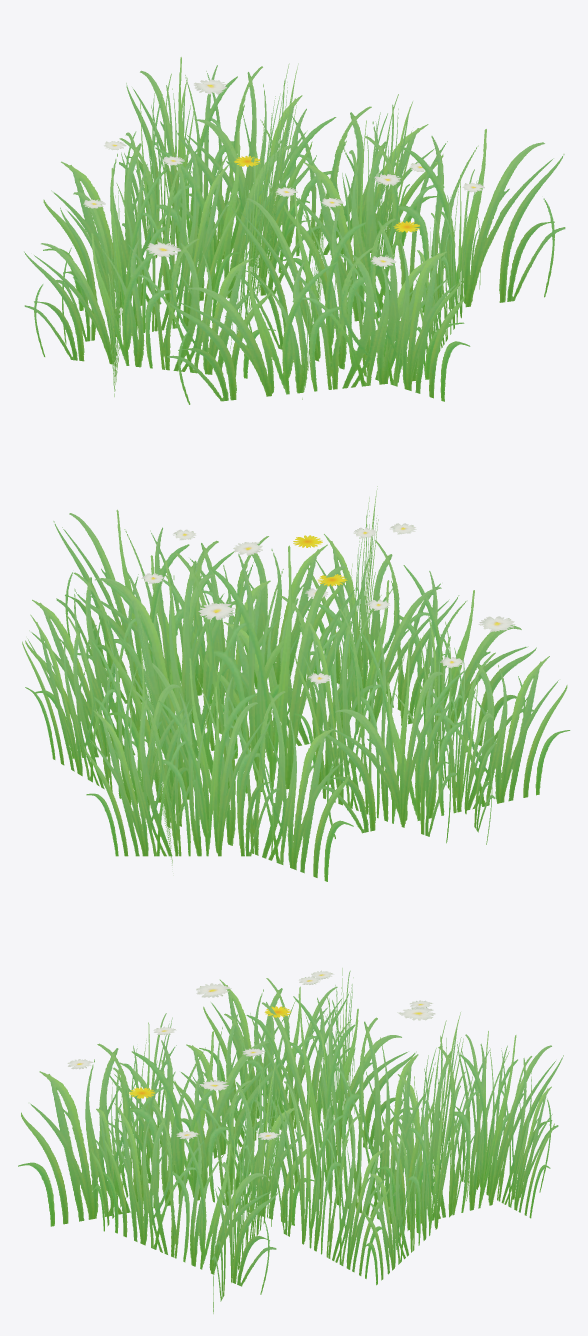
The model's file is SM_Demo_Xiaohua_zone2.fbx.
3 renders of one model, top to bottom at view 1: azimuth 30°, elevation 25°; view 2: azimuth 150°, elevation 25°; view 3: azimuth 270°, elevation 25°, orthographic. The views are drawn at different scales.
Visible parts, largest first — view 1: SM_Demo_Xiaohua_zone2.mo; view 2: SM_Demo_Xiaohua_zone2.mo; view 3: SM_Demo_Xiaohua_zone2.mo.
Part boxes in pixels (x1=…): SM_Demo_Xiaohua_zone2.mo: x1=24, y1=57, x2=565, y2=404; SM_Demo_Xiaohua_zone2.mo: x1=22, y1=486, x2=570, y2=881; SM_Demo_Xiaohua_zone2.mo: x1=18, y1=968, x2=563, y2=1313.
Bounding box in the file's own units: 1.49 × 0.7539 × 1.49.
